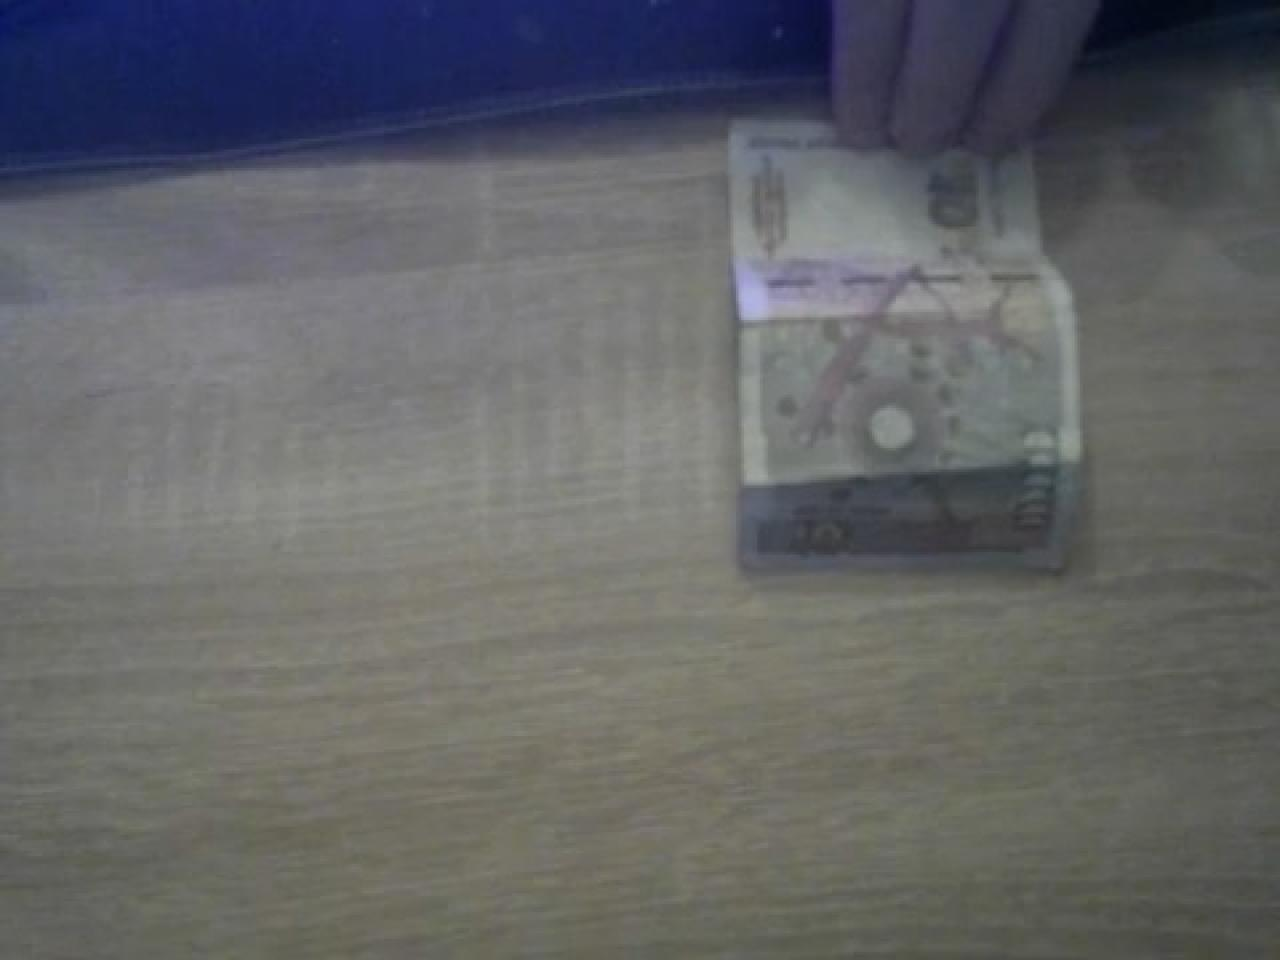10leva: (726, 120, 1091, 576)
